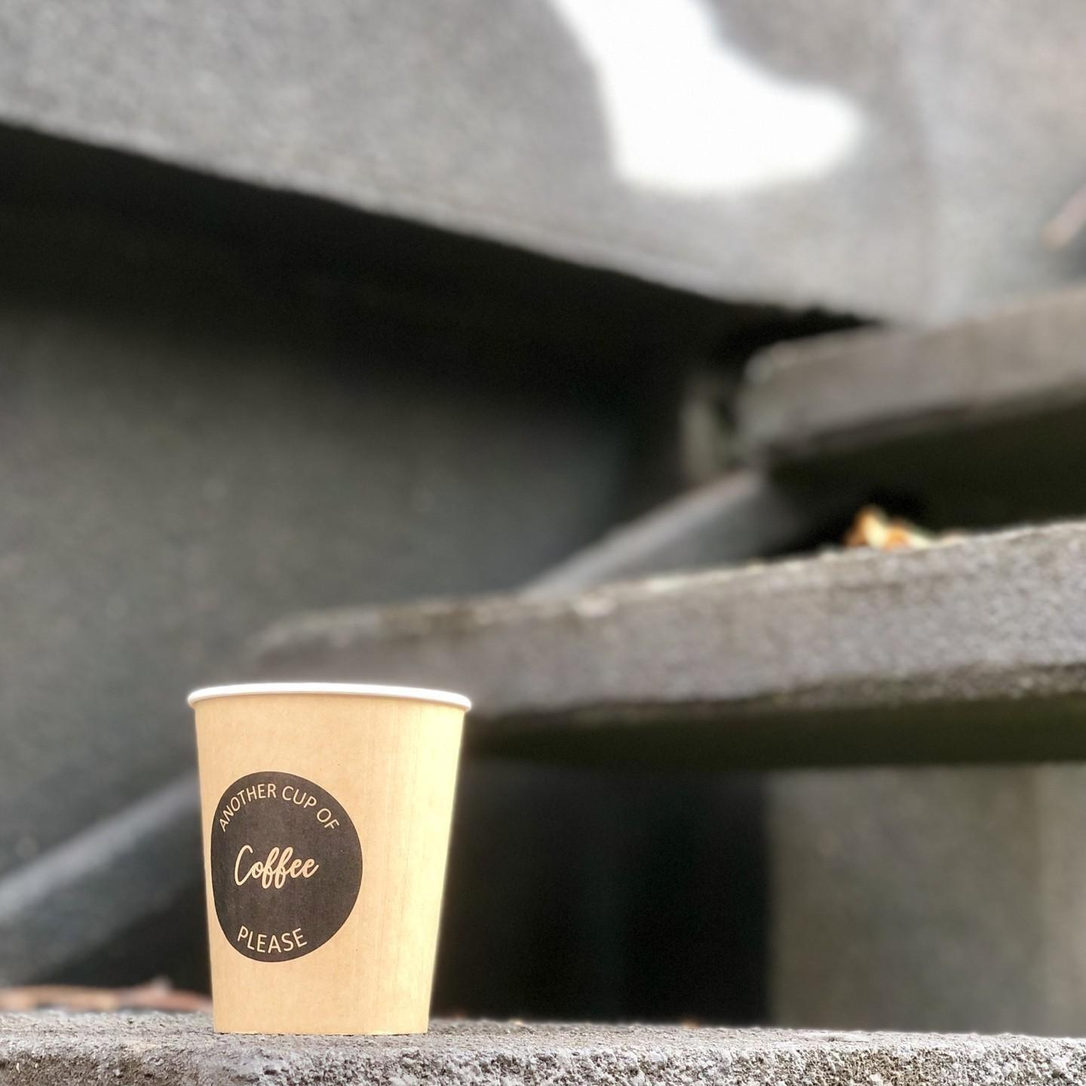cup-disposable: (172, 664, 480, 1051)
